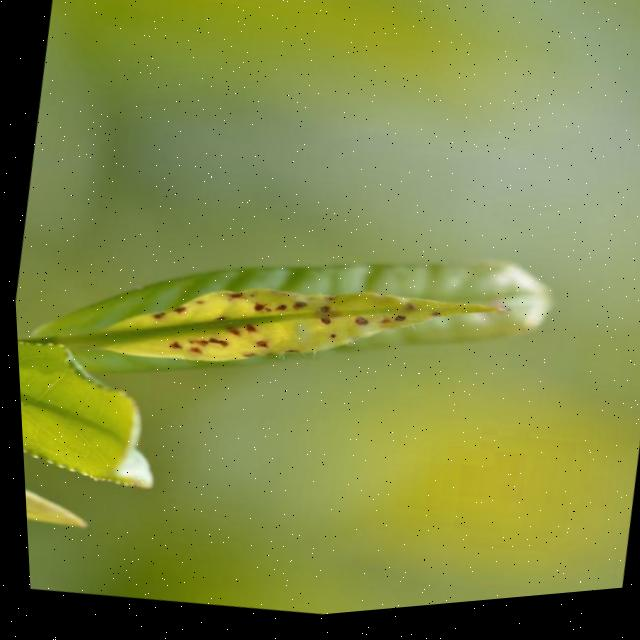Tea red scab: (146, 252, 471, 414)
